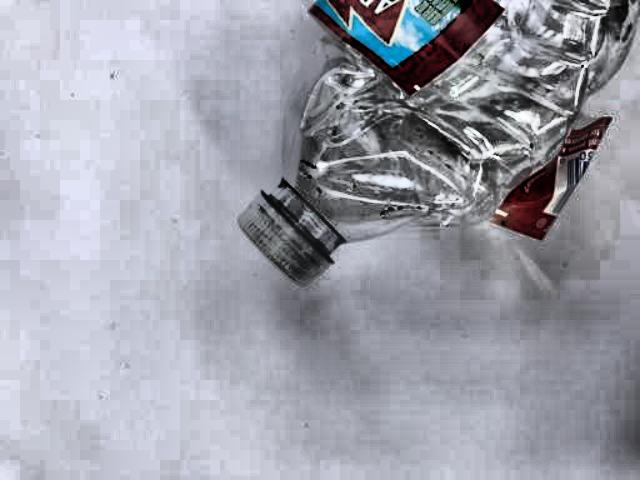Bottles: (224, 5, 635, 296)
